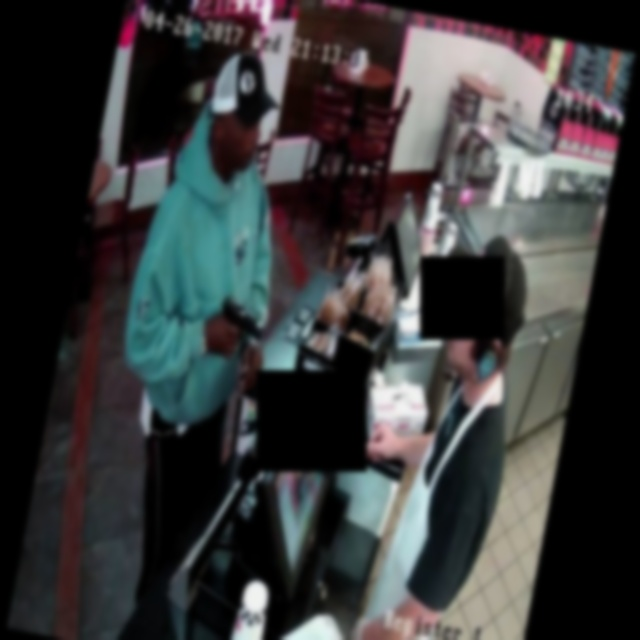gun: (193, 280, 283, 379)
